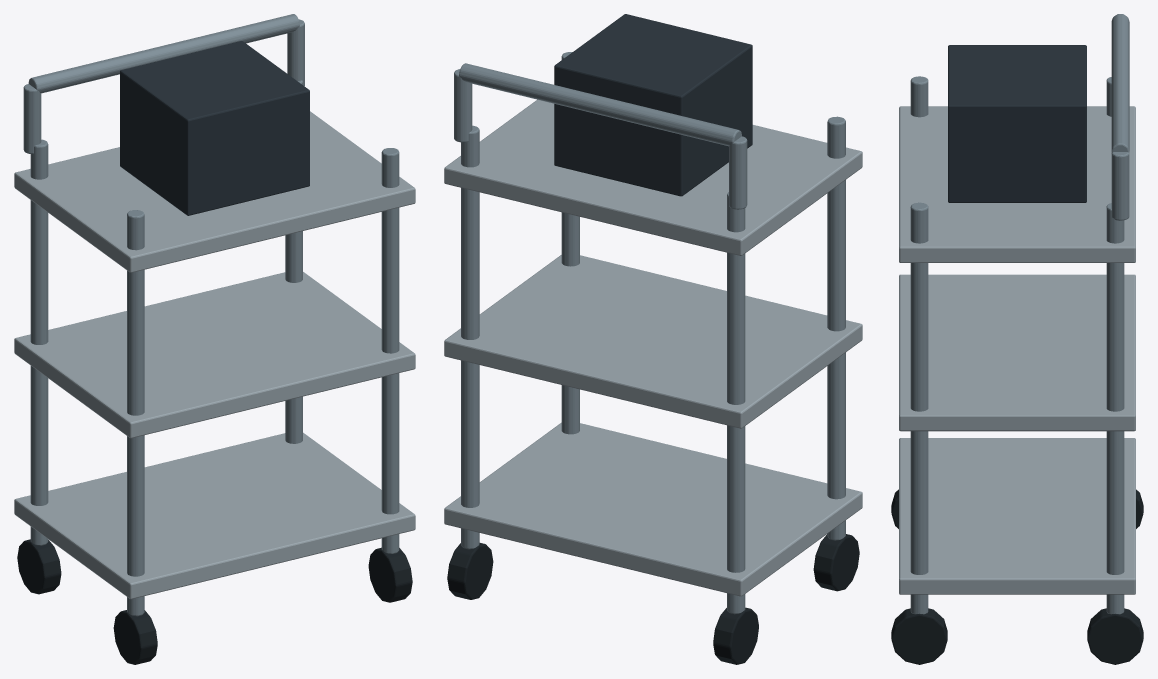
File: SM_Lab_Cart.fbx
3 views of the same model, side by side, from view 1: azimuth 30°, elevation 25°; view 2: azimuth 150°, elevation 25°; view 3: azimuth 270°, elevation 25° (orthographic). The views are drawn at different scales.
Parts seen in each view (by area): view 1: SM_Lab_Cart; view 2: SM_Lab_Cart; view 3: SM_Lab_Cart.
Part boxes in pixels (bbox=[...]): SM_Lab_Cart: bbox=[14, 14, 415, 664]; SM_Lab_Cart: bbox=[444, 14, 862, 664]; SM_Lab_Cart: bbox=[891, 14, 1143, 664].
Bounding box in the file's own units: 65 × 48.91 × 112.
